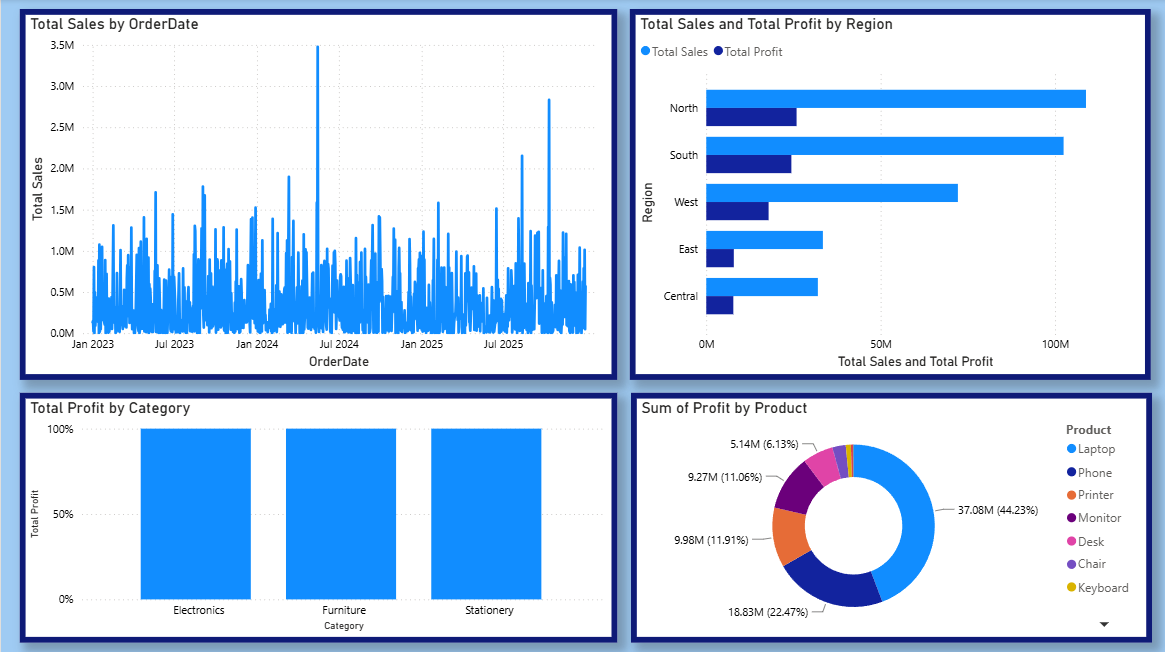

The dashboard page shown, as its layout file describes it:
{"tool":"powerbi","page":{"name":"Page 2","canvas":[1280,720],"ordinal":1},"visuals":[{"type":"lineChart","fields":{"Category":["Sales_Data_proj2.OrderDate"],"Y":["Calculation.Total Sales"]},"box":[20.6,11,655.9,407.5],"z":0},{"type":"hundredPercentStackedColumnChart","fields":{"Category":["Sales_Data_proj2.Category"],"Y":["Calculation.Total Profit"]},"box":[20.6,432.2,655.9,274.4],"z":1000},{"type":"clusteredBarChart","fields":{"Category":["Sales_Data_proj2.Region"],"Y":["Calculation.Total Sales","Calculation.Total Profit"]},"box":[690.2,11,572.2,407.5],"z":2000},{"type":"donutChart","fields":{"Category":["Sales_Data_proj2.Product"],"Y":["Sum(Sales_Data_proj2.Profit)"]},"box":[691.6,432.2,572.2,274.4],"z":3000}]}

Visuals, with their boxes in screenshot pixels (x1, y1, x2, y2), scaled from the page's 1280x720 canvas onto the 1165x652 screenshot:
lineChart - Sales_Data_proj2.OrderDate x Calculation.Total Sales: bbox=[19, 10, 616, 379]
hundredPercentStackedColumnChart - Sales_Data_proj2.Category x Calculation.Total Profit: bbox=[19, 391, 616, 640]
clusteredBarChart - Sales_Data_proj2.Region x Calculation.Total Sales: bbox=[628, 10, 1149, 379]
donutChart - Sales_Data_proj2.Product x Sum(Sales_Data_proj2.Profit): bbox=[629, 391, 1150, 640]
